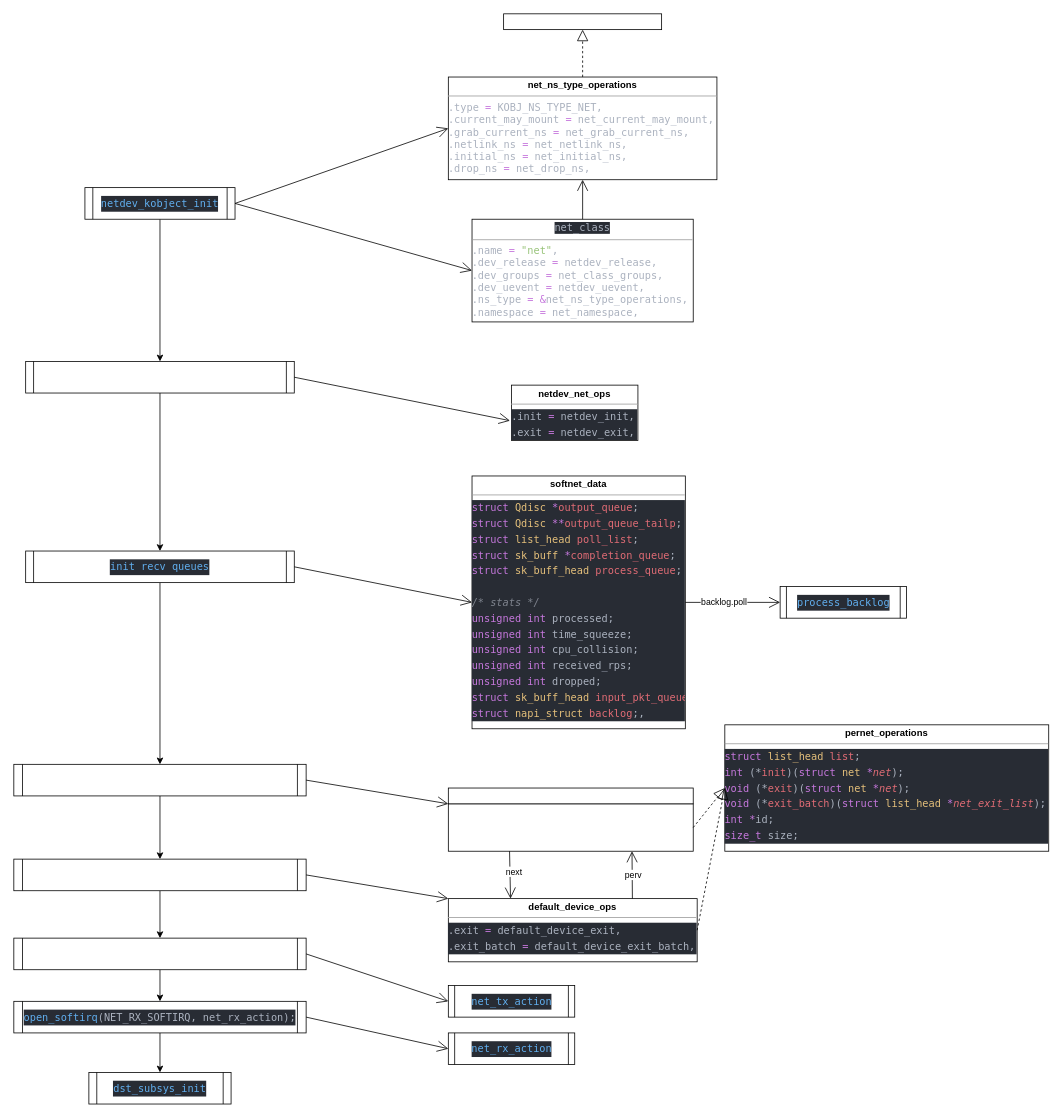
Some shapes in this 1063 by 1118 pixel diagram are drawn without their labels. The shapes that lost their labels are listed below. From the top down, each one's centre as x and y in pixels, then its label:
At point (582, 21): "kobj_ns_type_operations".
At point (159, 377): "register_pernet_subsys( & netdev_net_ops )".
At point (159, 780): "register_pernet_subsys( & loopback_net_ops )".
At point (570, 795): "prenet_list".
At point (570, 827): "loopback_net_ops .init = loopback_net_init,".
At point (159, 874): "register_pernet_subsys( & default_device_ops )".
At point (159, 953): "open_softirq (NET_TX_SOFTIRQ, net_tx_action);".
